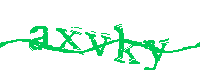a: (27, 24, 51, 52)
k: (113, 23, 139, 67)
v: (86, 29, 110, 56)
x: (54, 24, 81, 54)
y: (143, 37, 170, 70)
